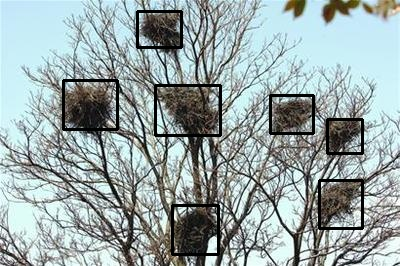bird-nest: (155, 85, 220, 135), (63, 80, 117, 129), (172, 205, 218, 254), (319, 180, 362, 228), (270, 95, 313, 133), (137, 11, 181, 47), (327, 119, 362, 153)
